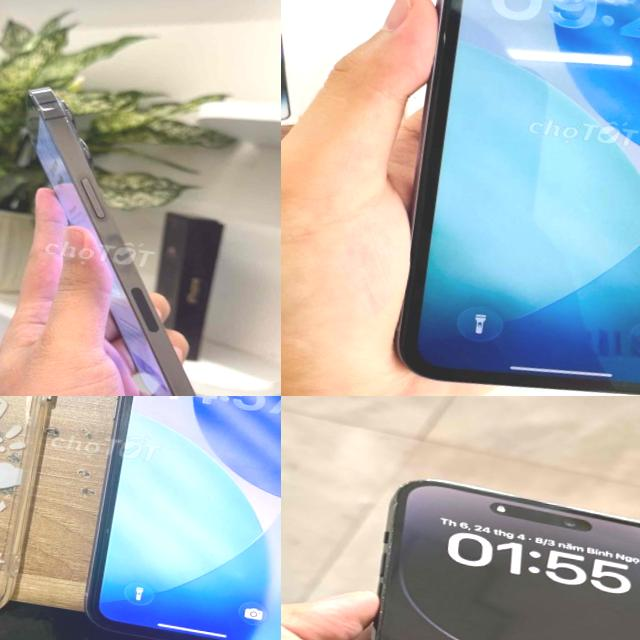gen_11: (371, 0, 640, 396), (74, 396, 281, 640)
gen_12_13: (0, 75, 270, 396)
gen_14: (324, 465, 640, 640)
